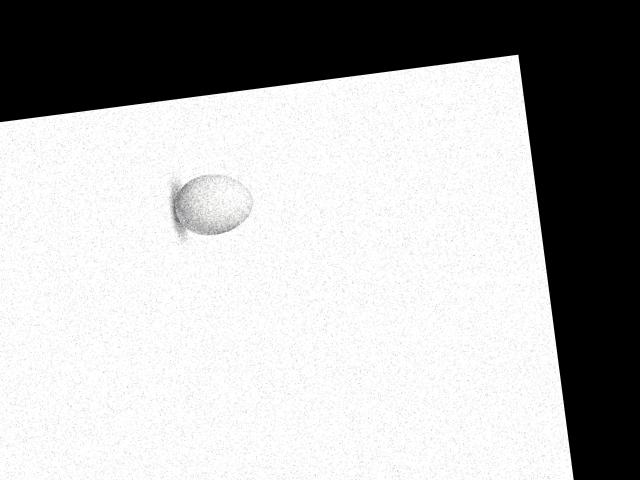egg: (171, 169, 257, 238)
